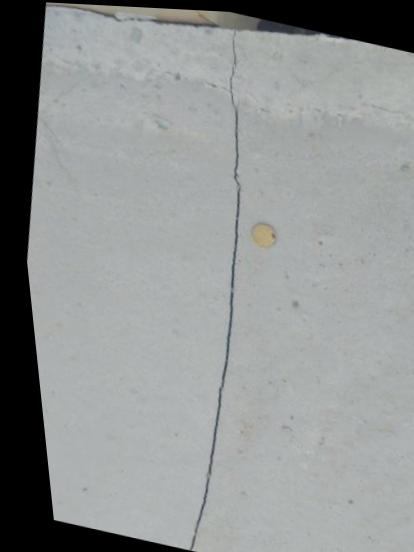crack: (177, 27, 237, 549)
